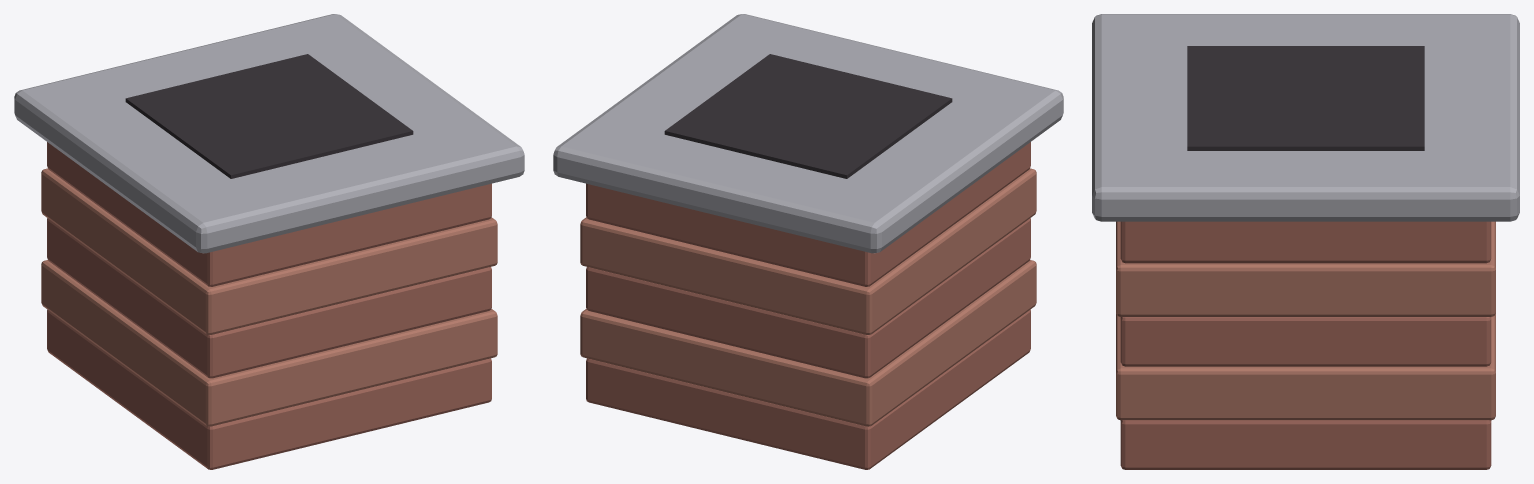
The model's file is chimney.glb.
The picture shows the model from 3 angles, left to right: view 1: azimuth 30°, elevation 25°; view 2: azimuth 150°, elevation 25°; view 3: azimuth 270°, elevation 25°; orthographic projection. The views are drawn at different scales.
Visible parts, largest first — view 1: chimney; view 2: chimney; view 3: chimney.
Part boxes in pixels (left/top/right/bottom): chimney: left=14, top=14, right=524, bottom=469; chimney: left=553, top=14, right=1063, bottom=469; chimney: left=1092, top=14, right=1519, bottom=469.
Bounding box in the file's own units: 0.9 × 0.69 × 0.9.
